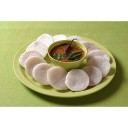idly: (47, 65, 68, 91), (66, 69, 89, 91), (25, 55, 45, 78), (35, 62, 51, 87), (89, 57, 110, 76), (82, 66, 102, 84), (18, 51, 43, 64), (88, 49, 111, 63), (28, 40, 48, 56)
